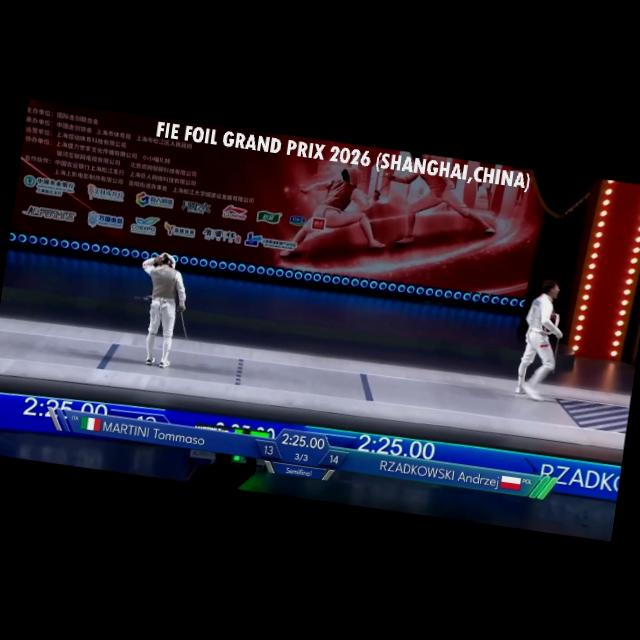blade: (172, 303, 200, 350), (548, 329, 563, 378)
